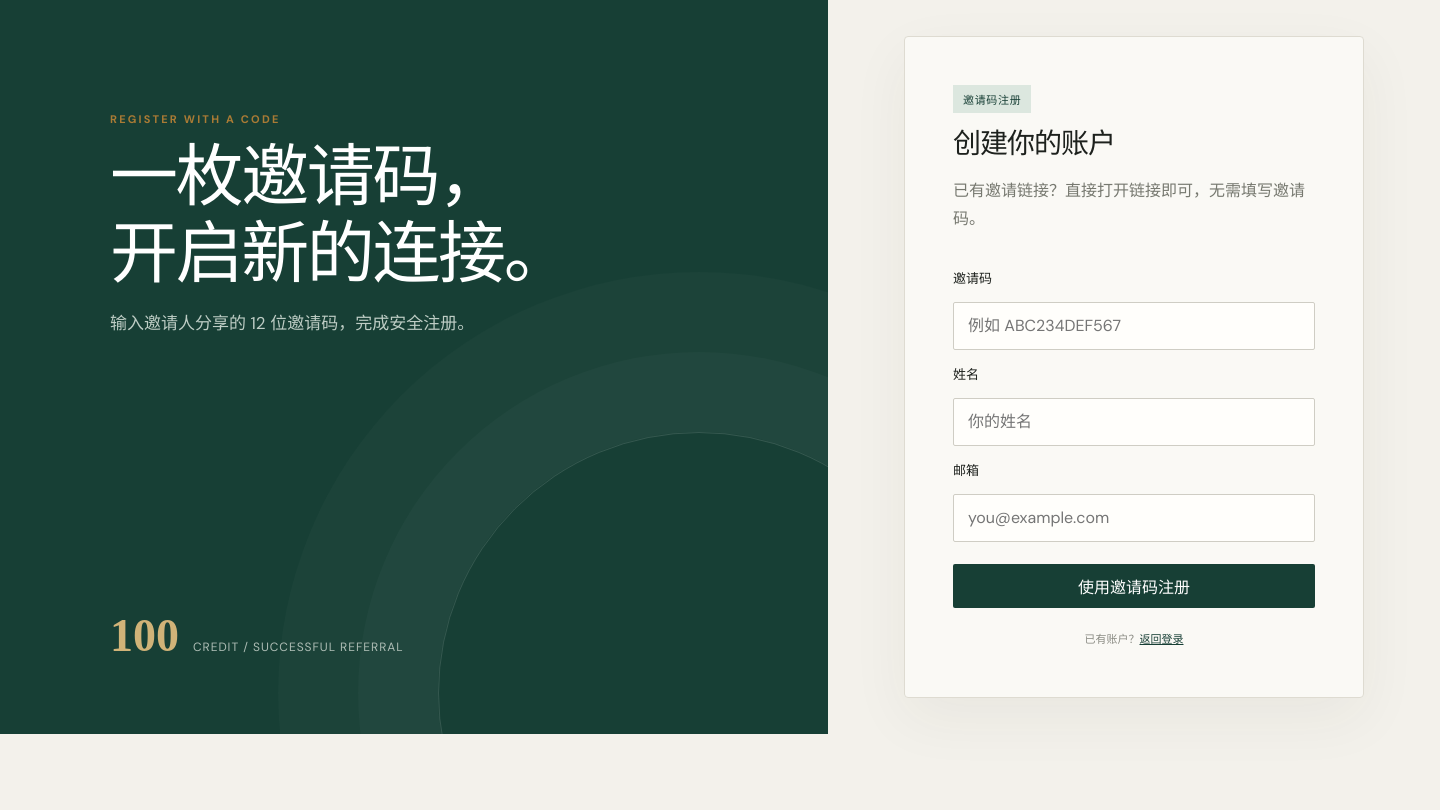
Scenario: registers with a normalized invitation code
Type "abc234def567" into the field labelled "邀请码" at (1134, 326), box [953,302,1315,350]
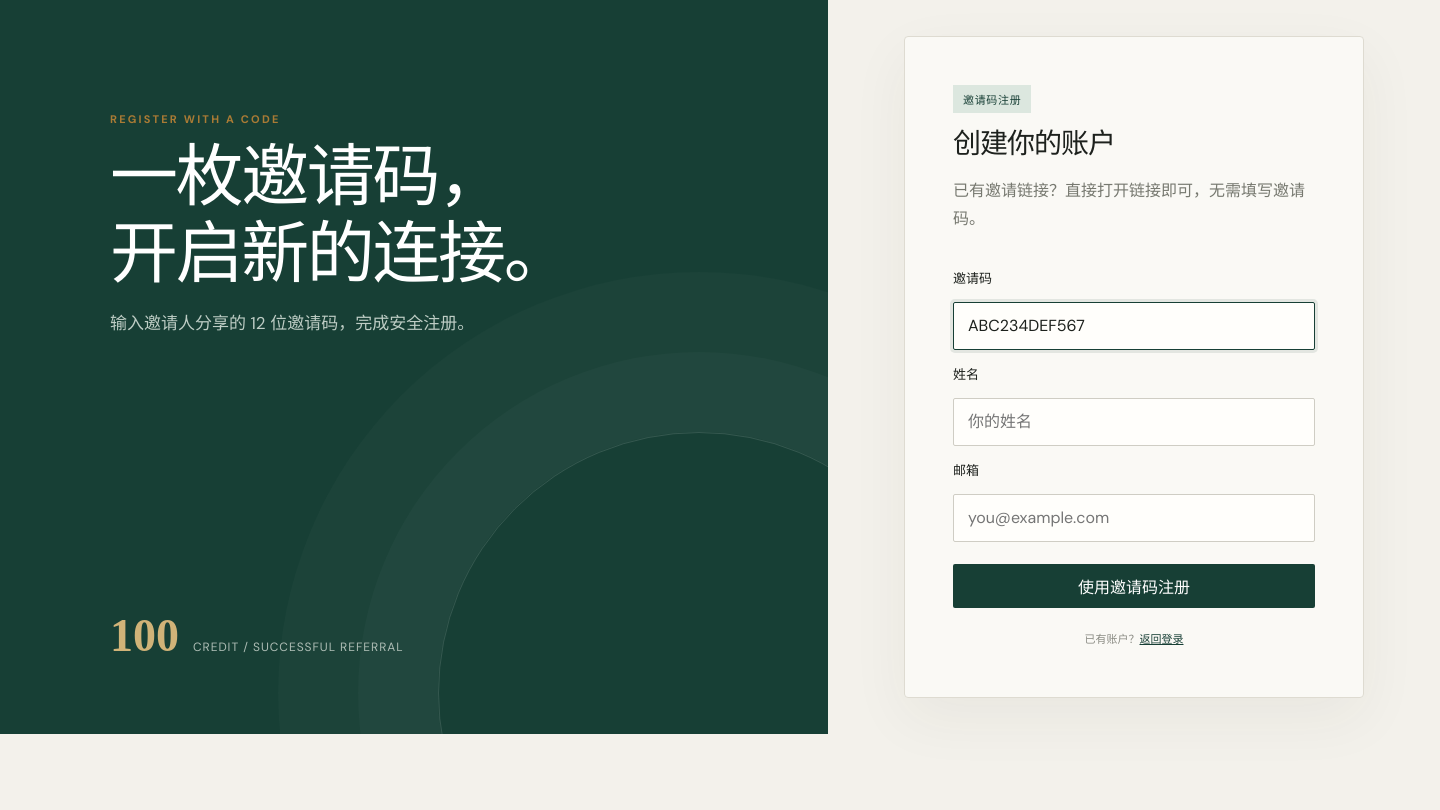
Type "Bob" into the field labelled "姓名" at (1134, 422), box [953,398,1315,446]
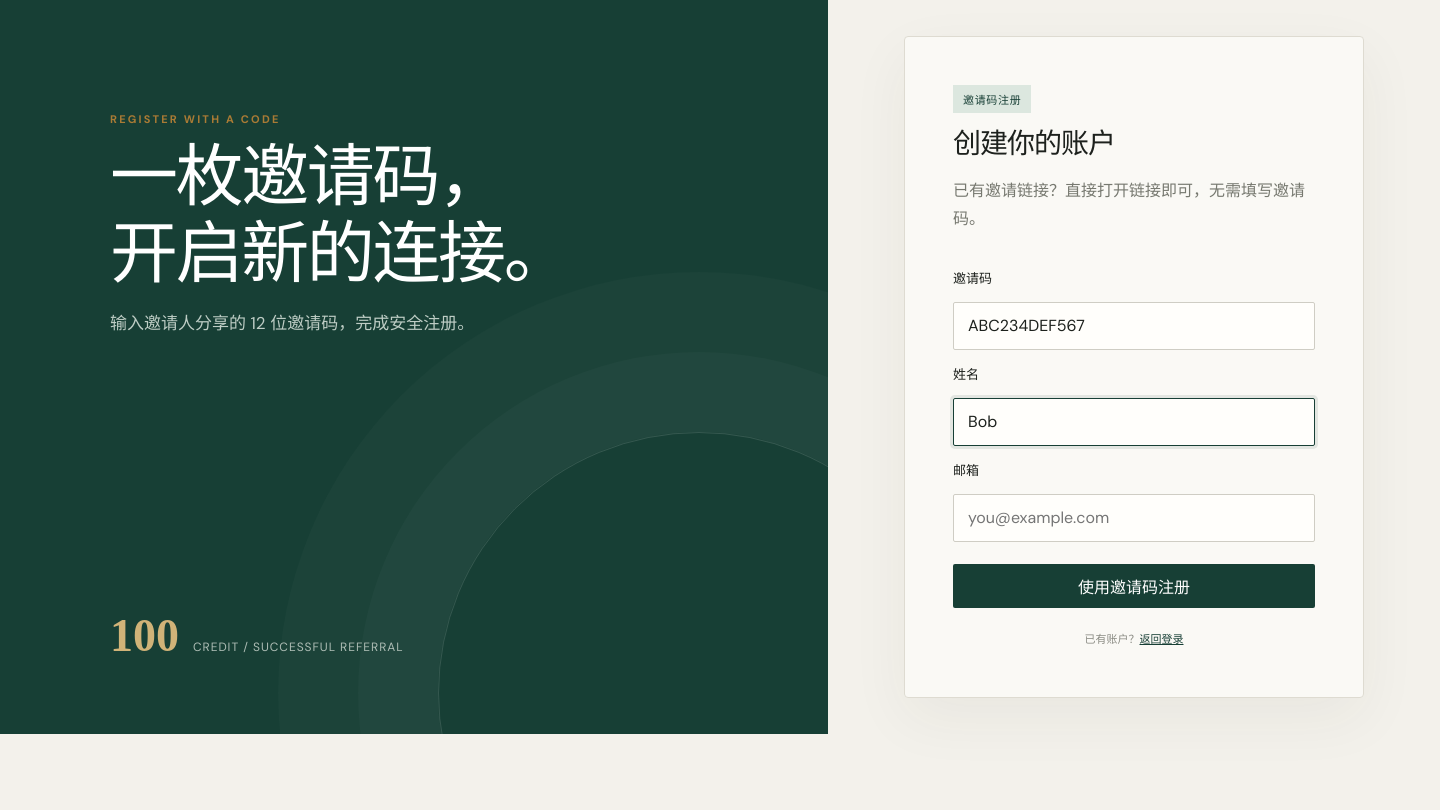
Type "bob@example.com" into the field labelled "邮箱" at (1134, 518), box [953,494,1315,542]
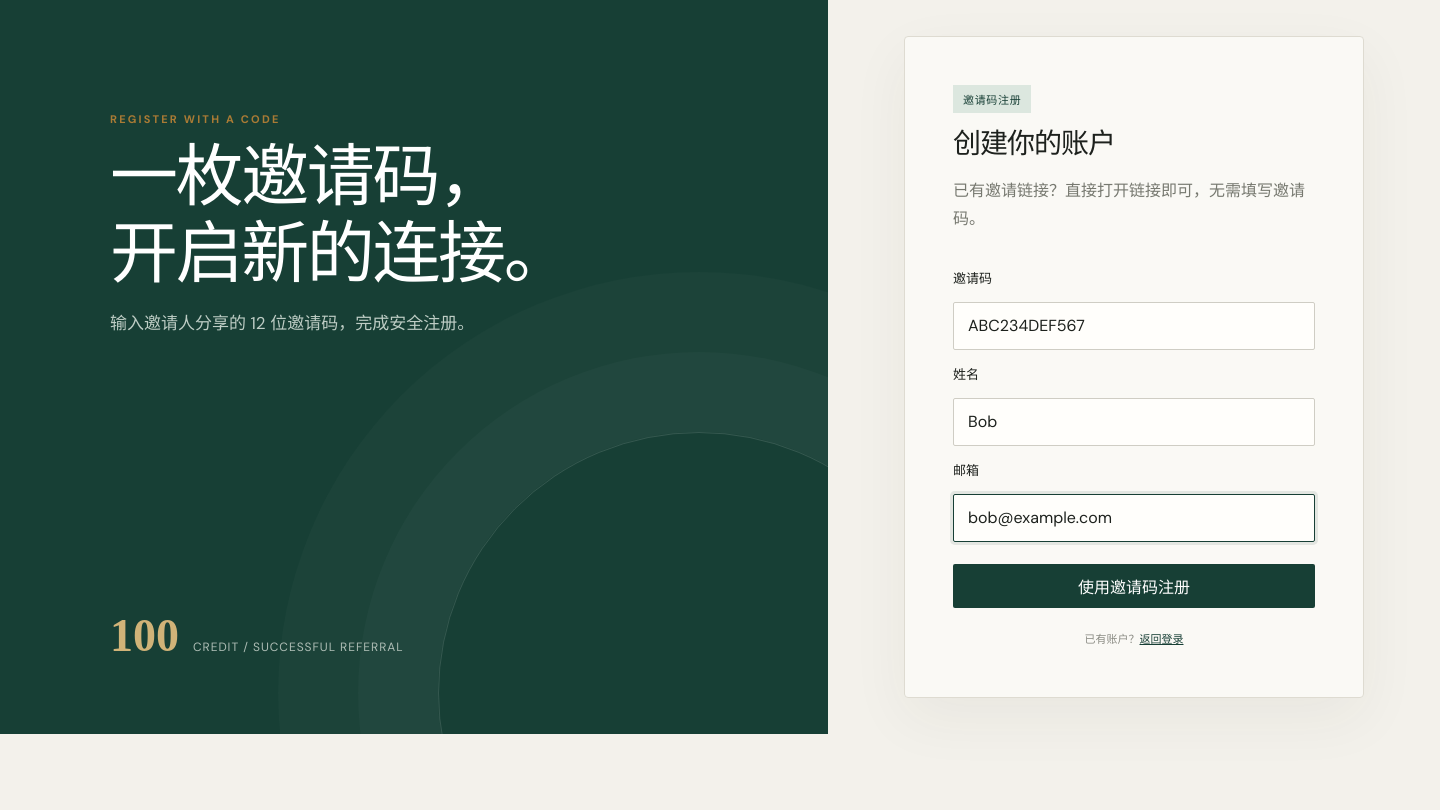
Click the button "使用邀请码注册" at (1134, 586), box [953,564,1315,608]
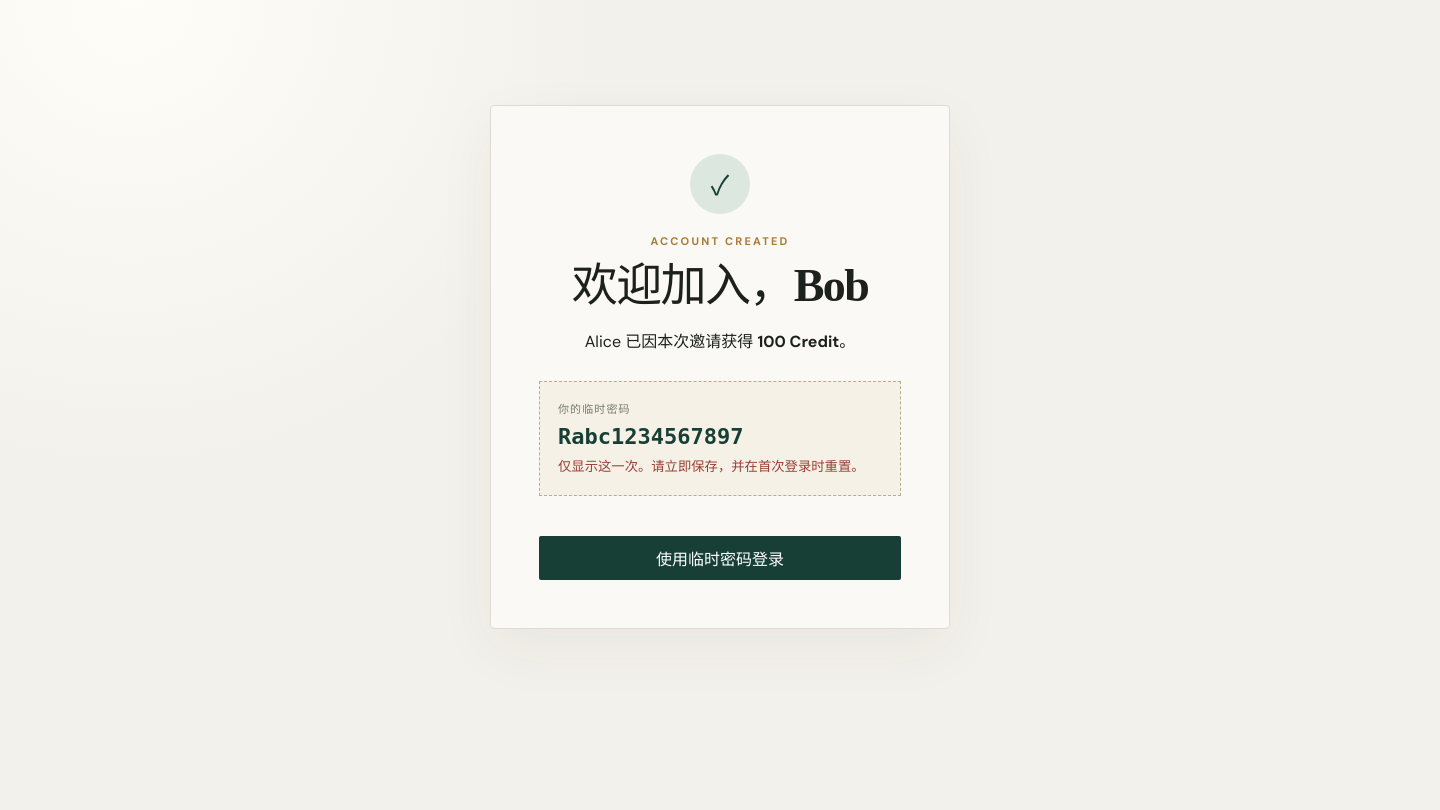
Expected: the heading "欢迎加入，Bob" is shown, [572,260,868,311]
